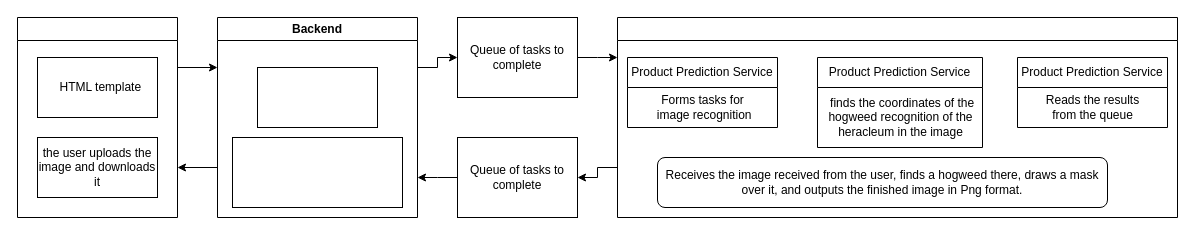
This 1195x235 diagram has some shape labels left out. The box of each missing label's shape, as (x1, y1, x2, y2) in pixels:
FastAPI app: (256, 66, 378, 128)
Generates tasks for image segmentation Reads the results from the queue: (232, 136, 402, 208)
Model: (616, 16, 1178, 218)
User Interface: (16, 16, 178, 218)
